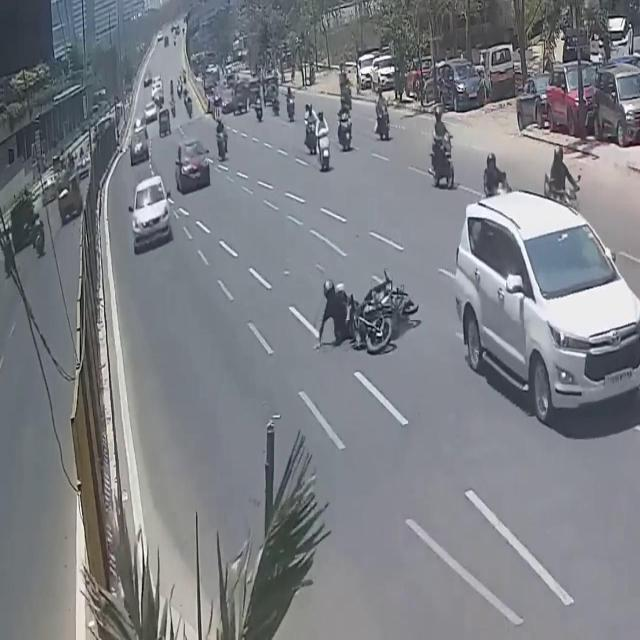accident: (314, 271, 425, 370)
non_accident: (510, 59, 640, 149), (210, 50, 270, 136), (401, 49, 483, 108), (134, 60, 170, 140), (355, 37, 401, 99)
